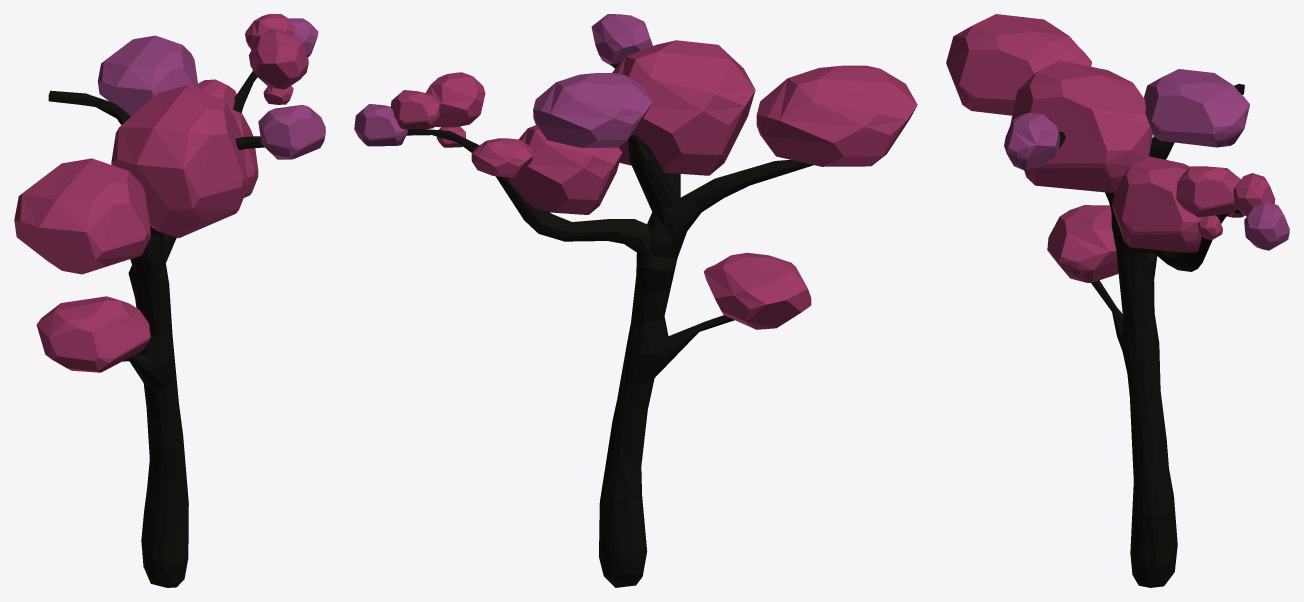
The model's file is Japanese_Tree.FBX.
3 views of the same model, side by side, from view 1: azimuth 30°, elevation 25°; view 2: azimuth 150°, elevation 25°; view 3: azimuth 270°, elevation 25° (orthographic).
Parts seen in each view (by area): view 1: Group64708, Group64748, Group64743, Group64746, Group64744, Group64742, Group64740, Group64747, Group64749, Group1001, Group64745, Group64739; view 2: Group64708, Group64748, Group64743, Group64744, Group64749, Group64746, Group64740, Group64742, Group64745, Group1001, Group64747; view 3: Group64708, Group64748, Group64743, Group64744, Group64749, Group64746, Group64740, Group64742, Group1001, Group64747, Group64739.
Part boxes in pixels (bbox=[...]): Group64708: bbox=[48, 70, 264, 587]; Group64748: bbox=[111, 85, 247, 237]; Group64743: bbox=[14, 158, 150, 274]; Group64746: bbox=[36, 296, 150, 372]; Group64744: bbox=[97, 35, 198, 116]; Group64742: bbox=[258, 105, 325, 159]; Group64740: bbox=[249, 29, 308, 89]; Group64747: bbox=[245, 14, 295, 49]; Group64749: bbox=[229, 108, 258, 197]; Group1001: bbox=[288, 18, 318, 57]; Group64745: bbox=[198, 79, 236, 109]; Group64739: bbox=[263, 86, 293, 104]; Group64708: bbox=[406, 62, 813, 587]; Group64748: bbox=[612, 40, 755, 175]; Group64743: bbox=[756, 65, 917, 166]; Group64744: bbox=[533, 73, 652, 147]; Group64749: bbox=[509, 125, 622, 214]; Group64746: bbox=[703, 252, 811, 329]; Group64740: bbox=[425, 72, 485, 127]; Group64742: bbox=[591, 14, 652, 66]; Group64745: bbox=[471, 138, 532, 177]; Group1001: bbox=[354, 104, 407, 146]; Group64747: bbox=[390, 90, 439, 129]; Group64708: bbox=[1049, 84, 1244, 587]; Group64748: bbox=[1010, 60, 1152, 192]; Group64743: bbox=[946, 14, 1091, 115]; Group64744: bbox=[1144, 69, 1249, 147]; Group64749: bbox=[1112, 156, 1202, 252]; Group64746: bbox=[1047, 205, 1118, 282]; Group64740: bbox=[1176, 166, 1240, 217]; Group64742: bbox=[1004, 113, 1059, 170]; Group1001: bbox=[1244, 202, 1289, 250]; Group64747: bbox=[1233, 173, 1275, 216]; Group64739: bbox=[1198, 215, 1222, 240].
Bounding box in the file's own units: 3994 × 4727 × 2875.
